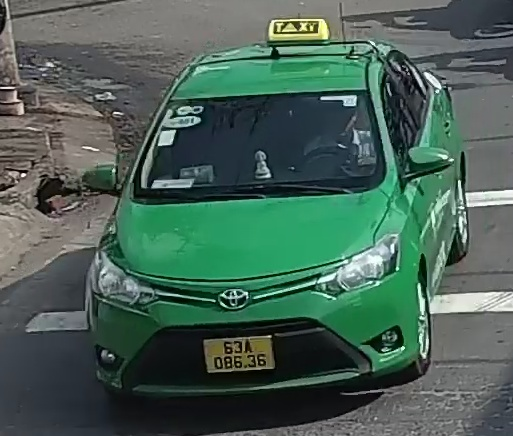vehicle plate: (196, 327, 283, 378)
